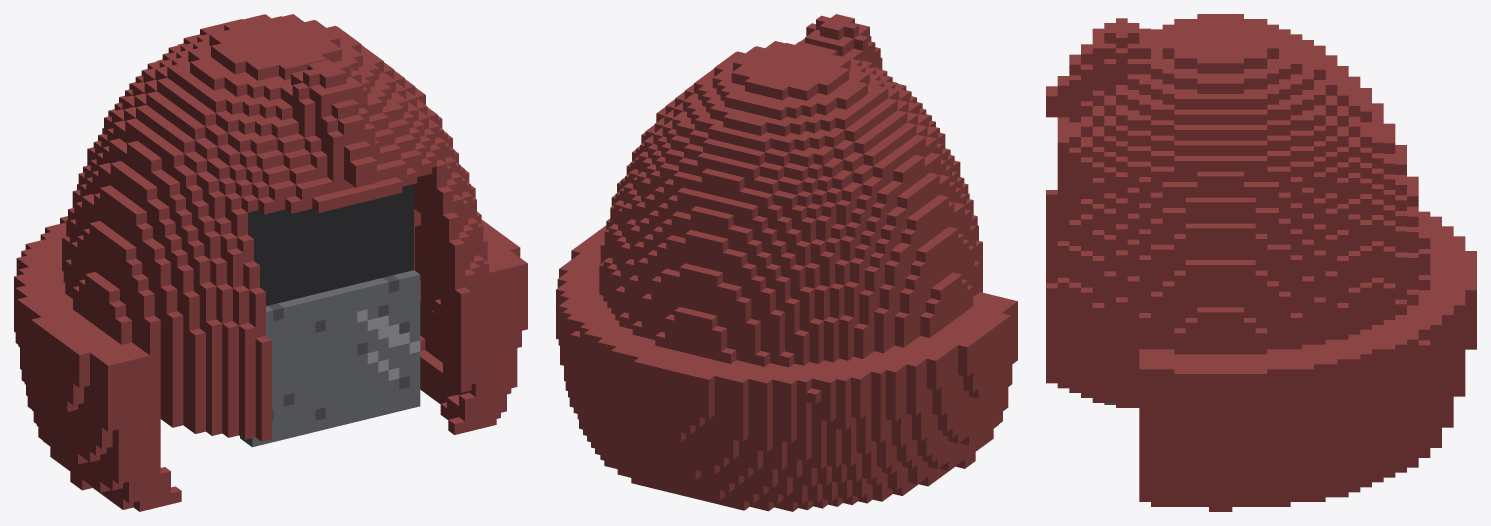
The model's file is leather_rare_helmet.glb.
3 views of the same model, side by side, from view 1: azimuth 30°, elevation 25°; view 2: azimuth 150°, elevation 25°; view 3: azimuth 270°, elevation 25° (orthographic). The views are drawn at different scales.
Parts seen in each view (by area): view 1: leather_rare_helmet; view 2: leather_rare_helmet; view 3: leather_rare_helmet.
Part boxes in pixels (x1=…): leather_rare_helmet: x1=14, y1=14, x2=527, y2=511; leather_rare_helmet: x1=556, y1=14, x2=1017, y2=511; leather_rare_helmet: x1=1046, y1=14, x2=1476, y2=511.
Size of the model in its own units: 0.504 by 0.444 by 0.444.
